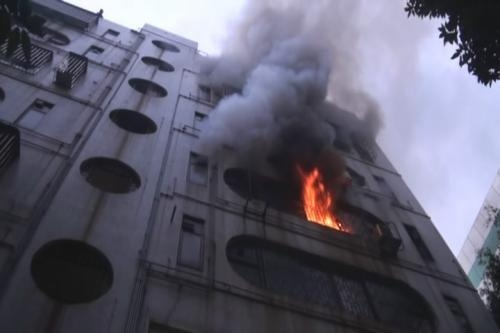fire: (298, 168, 347, 232)
